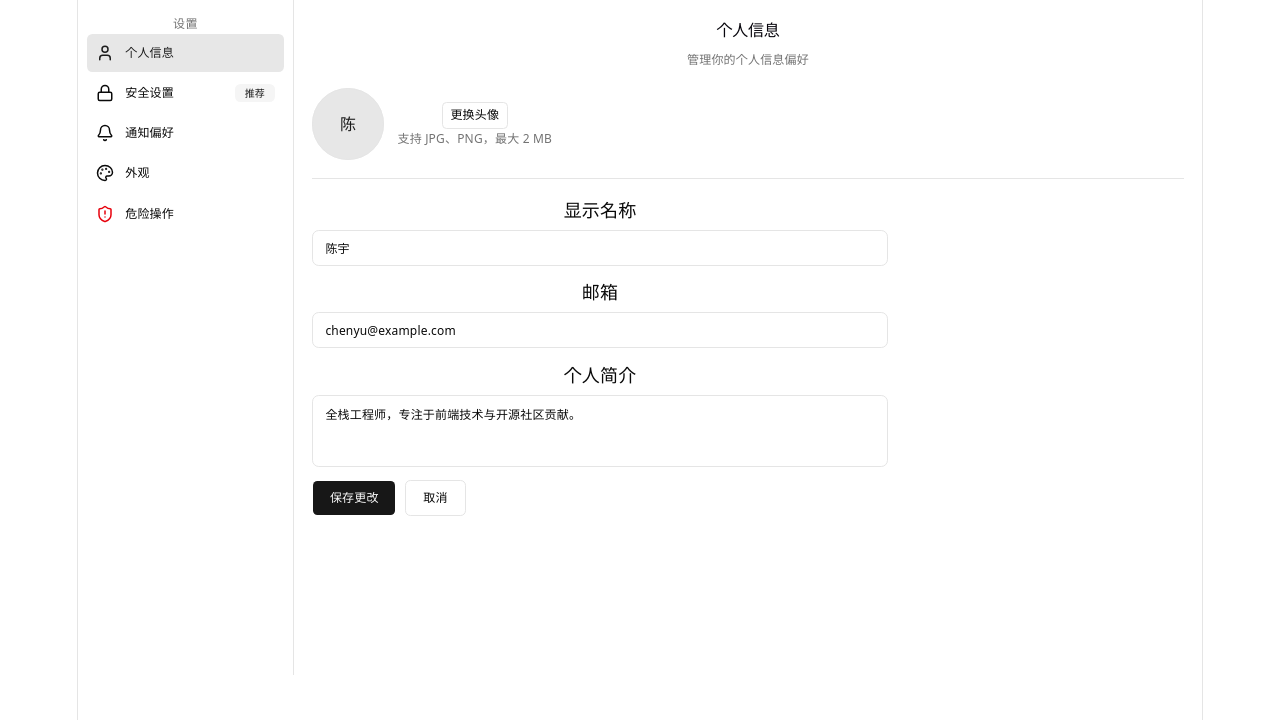
Test: SettingsPage › danger tab disables delete button unless DELETE typed
The width and height of the screenshot is (1280, 720).
Click the tab "危险操作". click: (186, 214)
box: [87, 194, 284, 232]
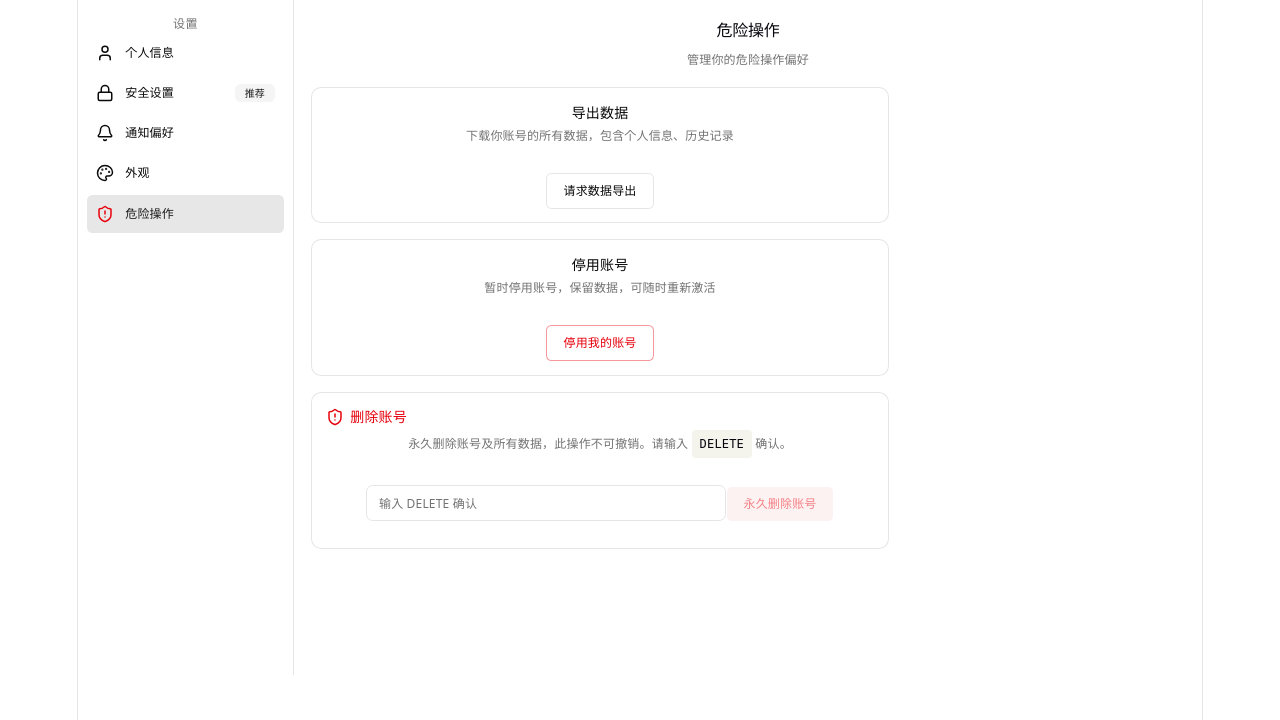
Check: the button "永久删除账号" is disabled, box [726, 486, 834, 522]
Type "DELETE" into the field named "确认删除". click: (546, 503)
box: [366, 485, 726, 521]
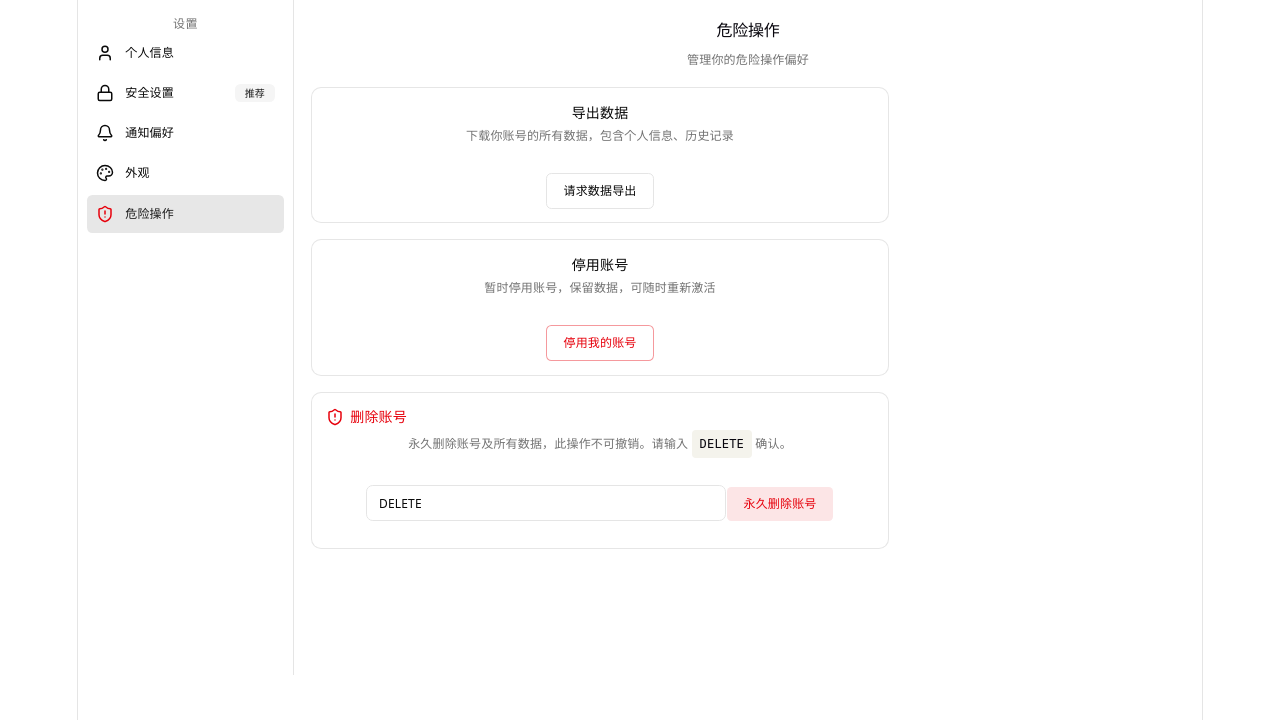
Check: the button "永久删除账号" is enabled, box [726, 486, 834, 522]
